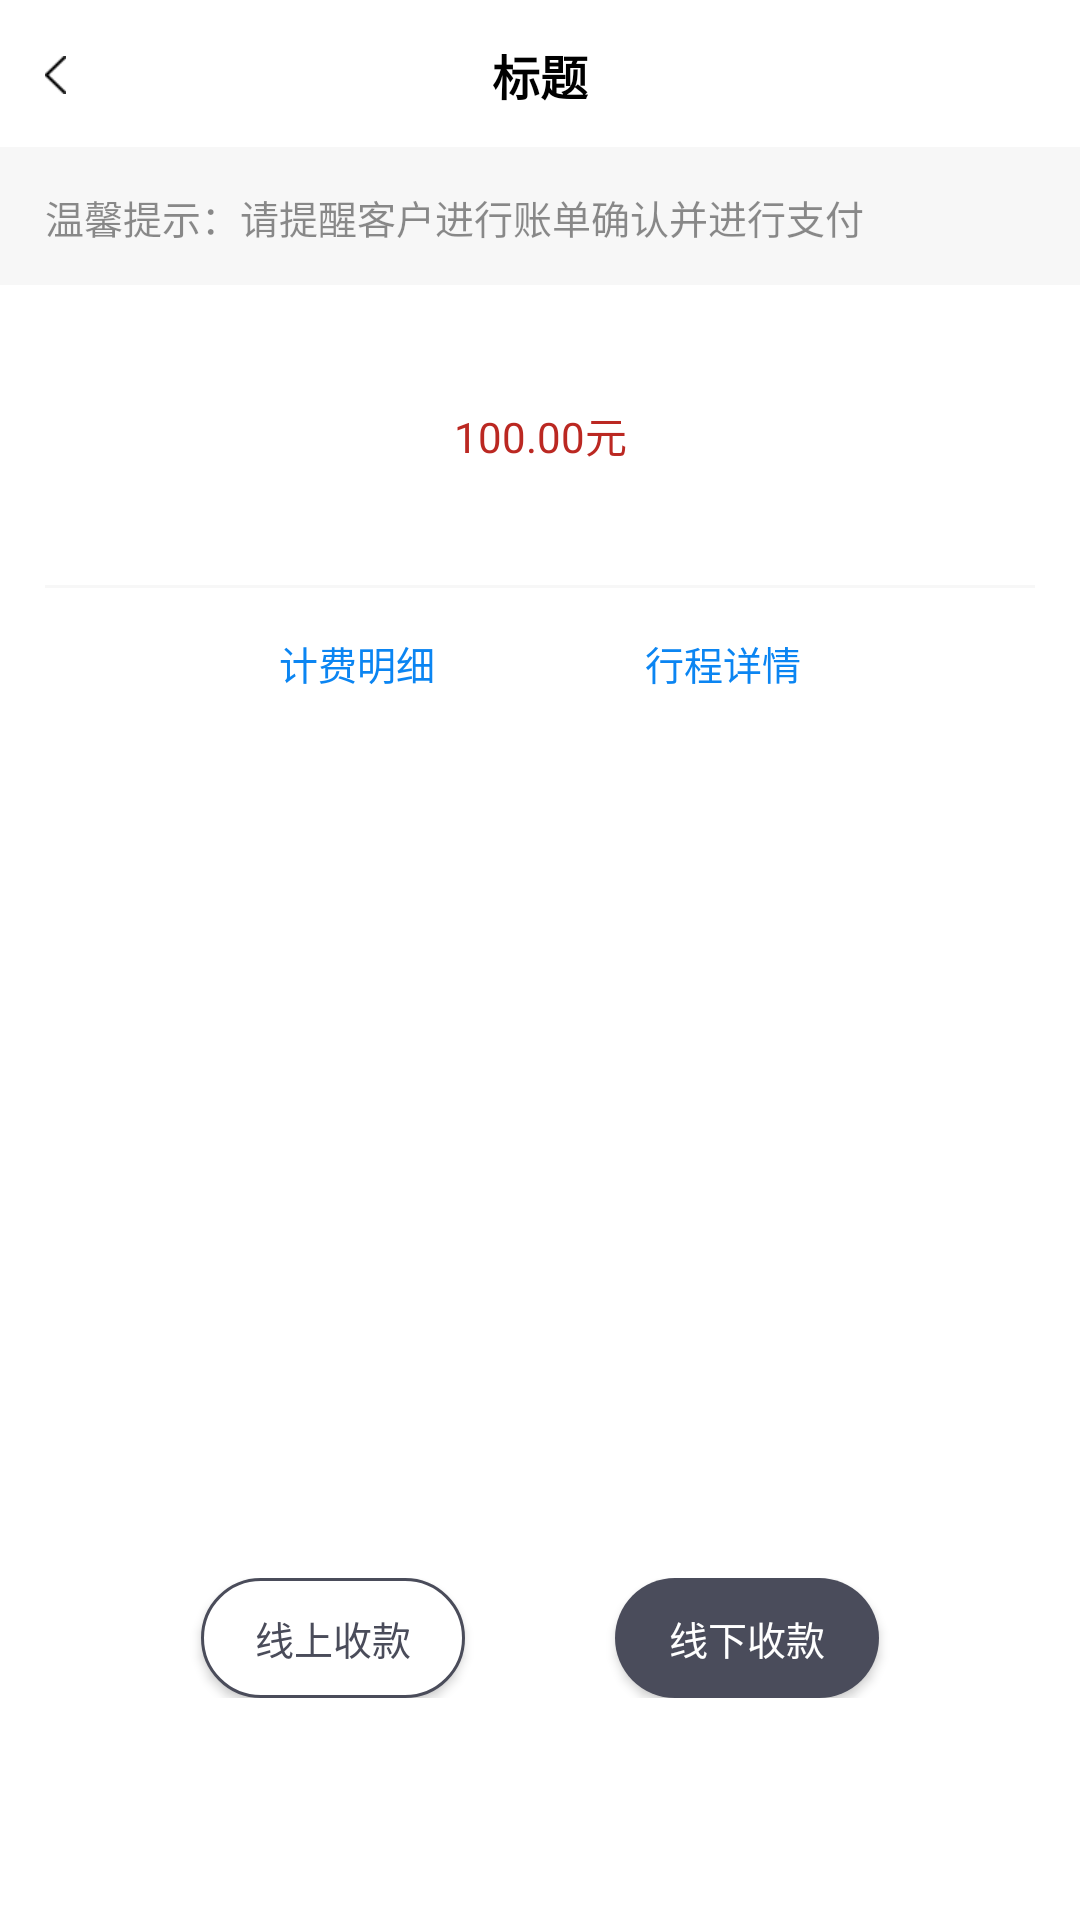

Icons on this 1080 × 1920 Android screen, each with the point to tap as (x,y):
back: (55,75)
